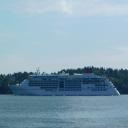cruises: (6, 68, 124, 99)
